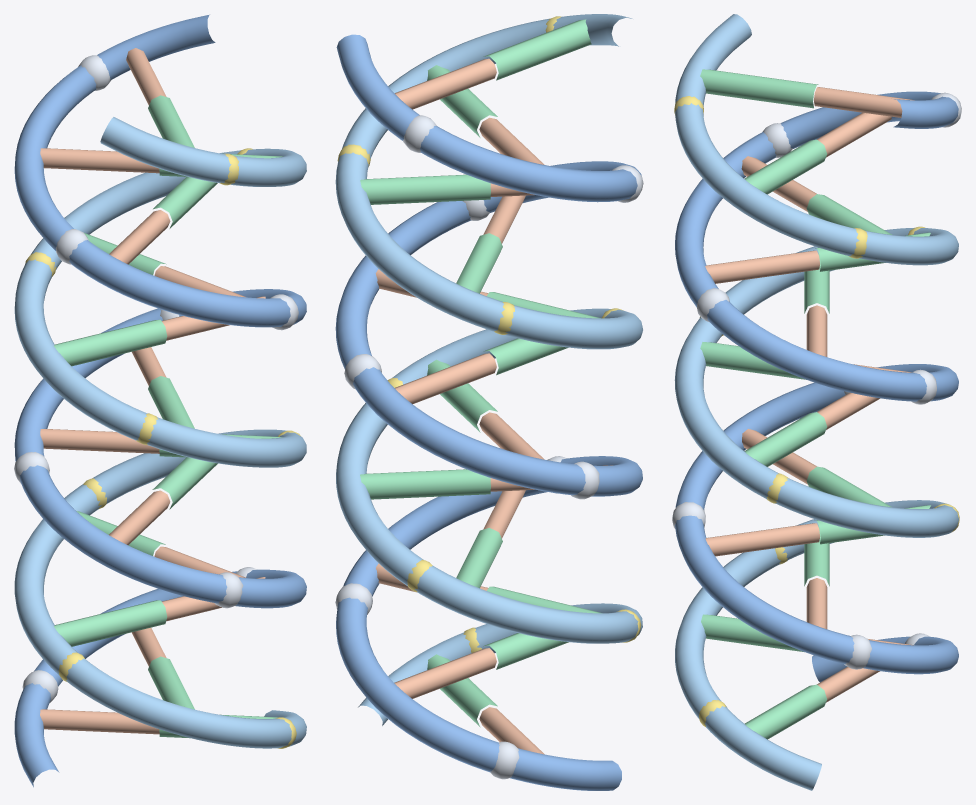
File: dna.glb
3 renders of one model, left to right at view 1: azimuth 30°, elevation 25°; view 2: azimuth 150°, elevation 25°; view 3: azimuth 270°, elevation 25°, orthographic. The views are drawn at different scales.
Visible parts, largest first — view 1: backbone_1, backbone_2, purine_8, purine_3, pyrimidine_1, pyrimidine_11, pyrimidine_6, pyrimidine_5, pyrimidine_10, purine_5, purine_10, purine_2 (+16 smaller); view 2: backbone_2, backbone_1, purine_5, purine_10, purine_12, pyrimidine_2, pyrimidine_12, pyrimidine_7, purine_9, purine_4, purine_2, purine_7 (+15 smaller); view 3: backbone_1, backbone_2, purine_12, pyrimidine_4, pyrimidine_9, purine_11, purine_6, purine_1, pyrimidine_12, purine_7, purine_2, pyrimidine_11 (+15 smaller).
Part boxes in pixels (left/top/right/bottom): backbone_1: left=14, top=117, right=306, bottom=748; backbone_2: left=14, top=14, right=306, bottom=787; purine_8: left=54, top=319, right=167, bottom=366; purine_3: left=54, top=600, right=167, bottom=646; pyrimidine_1: left=40, top=709, right=159, bottom=734; pyrimidine_11: left=40, top=148, right=159, bottom=173; pyrimidine_6: left=40, top=429, right=159, bottom=453; pyrimidine_5: left=109, top=490, right=170, bottom=545; pyrimidine_10: left=109, top=210, right=170, bottom=264; purine_5: left=152, top=457, right=217, bottom=509; purine_10: left=153, top=177, right=217, bottom=228; purine_2: left=148, top=656, right=194, bottom=709; backbone_2: left=335, top=34, right=642, bottom=790; backbone_1: left=335, top=14, right=642, bottom=725; purine_5: left=360, top=469, right=490, bottom=499; purine_10: left=360, top=174, right=490, bottom=204; purine_12: left=483, top=19, right=591, bottom=80; pyrimidine_2: left=394, top=648, right=496, bottom=698; pyrimidine_12: left=395, top=58, right=496, bottom=109; pyrimidine_7: left=395, top=353, right=496, bottom=403; purine_9: left=456, top=233, right=502, bottom=293; purine_4: left=456, top=528, right=502, bottom=588; purine_2: left=483, top=633, right=568, bottom=669; purine_7: left=483, top=338, right=568, bottom=375; backbone_1: left=674, top=14, right=958, bottom=790; backbone_2: left=675, top=91, right=958, bottom=682; purine_12: left=700, top=69, right=818, bottom=108; pyrimidine_4: left=705, top=523, right=819, bottom=556; pyrimidine_9: left=705, top=250, right=819, bottom=283; purine_11: left=744, top=139, right=827, bottom=194; purine_6: left=744, top=412, right=827, bottom=466; purine_1: left=745, top=684, right=827, bottom=739; pyrimidine_12: left=814, top=87, right=914, bottom=117; purine_7: left=700, top=342, right=806, bottom=379; purine_2: left=701, top=614, right=804, bottom=652; pyrimidine_11: left=817, top=112, right=891, bottom=157.
Size of the model in its own units: 0.6683 by 1.76 by 0.6789.
